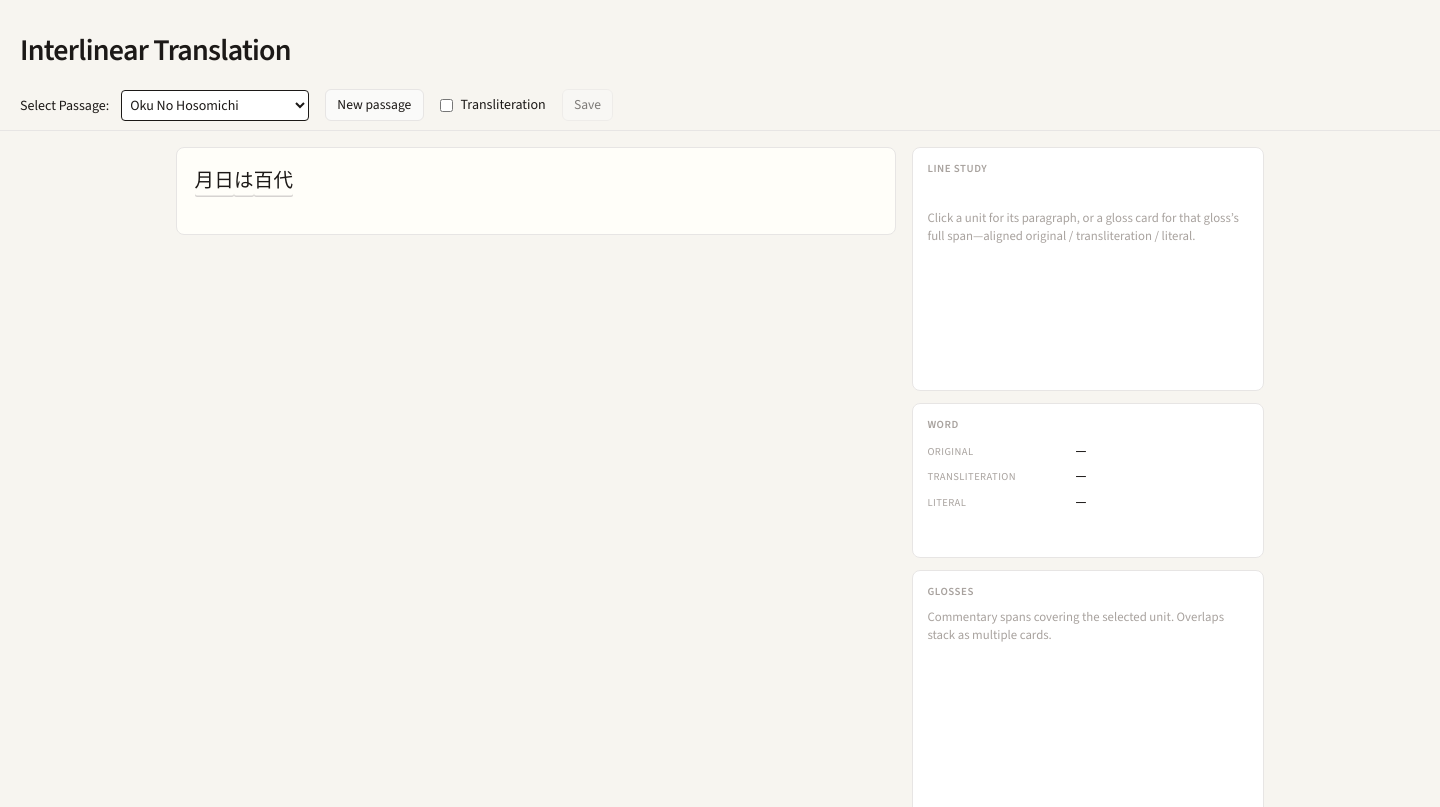
App component › resets selection when switching passages
Click the button "百代". click: (273, 181)
box: [254,164,293,197]
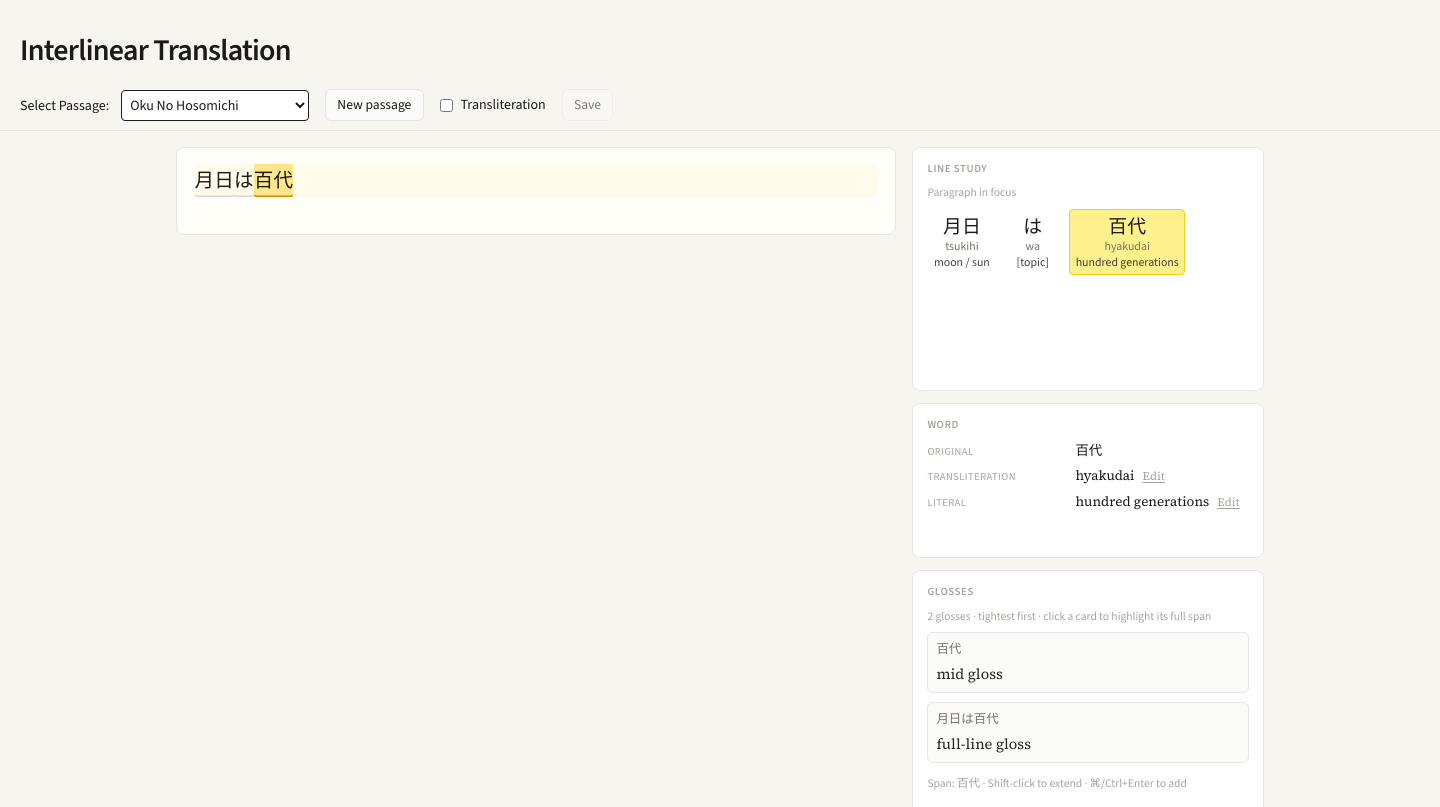
Result: the text "mid gloss" is shown at [936,664,1003,684]
Select "Ovid's Metamorphoses" in the dropdown. click: (215, 105)
box: [121,90,309,121]
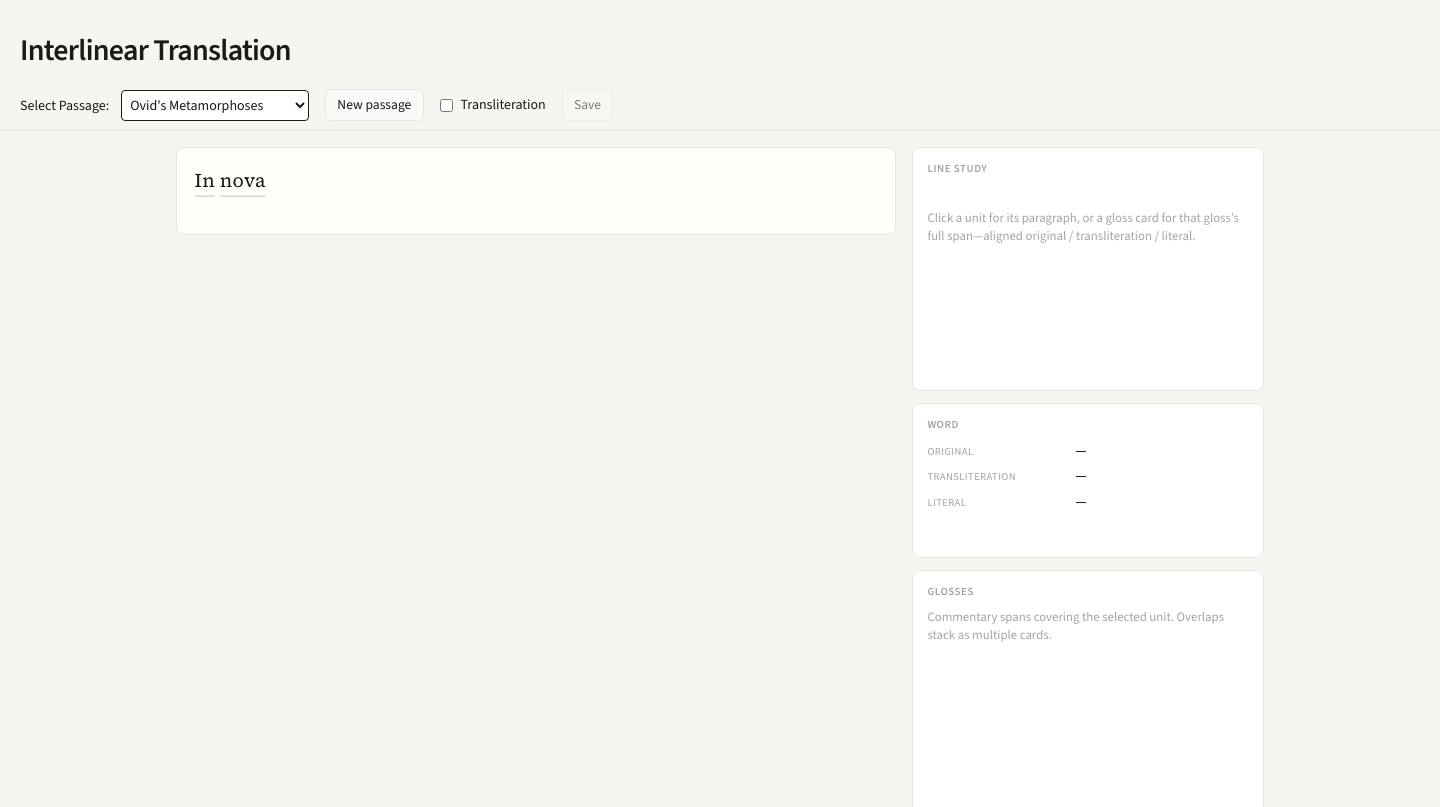
Result: the button "In" is shown at [195,164,215,197]
Result: the button "mid gloss" is gone
Result: the button "百代" is gone
